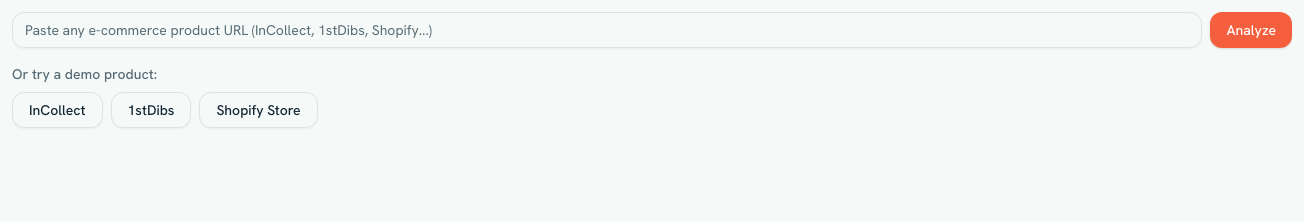
submit analysis flow (User Story 1) › lists a submitted URL under "Previously analyzed" without duplicating status logic
Check: the text "Previously analyzed" is not shown
Type "https://recent-test.example.com" into the field with placeholder "Paste any e-commerce product URL" at (607, 30), box [12,12,1202,48]
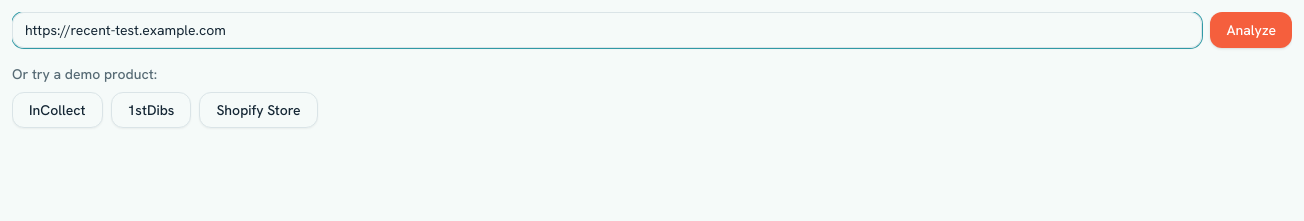
Click the button "Analyze" at (1251, 30), box [1210,12,1292,48]
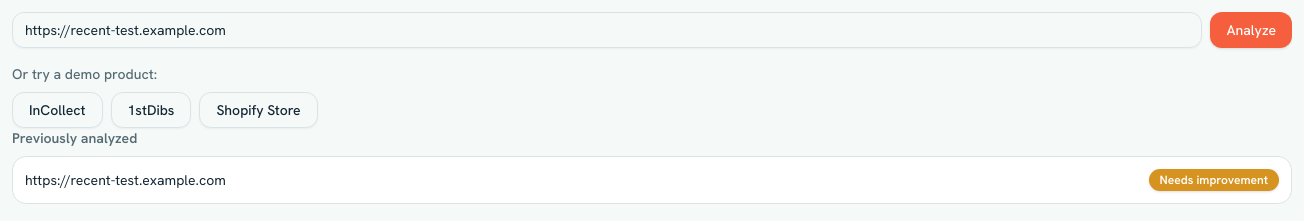
Check: the heading "Previously analyzed" is shown, box [12,129,137,147]
Check: the text "https://recent-test.example.com" is shown, box [25,170,226,190]
